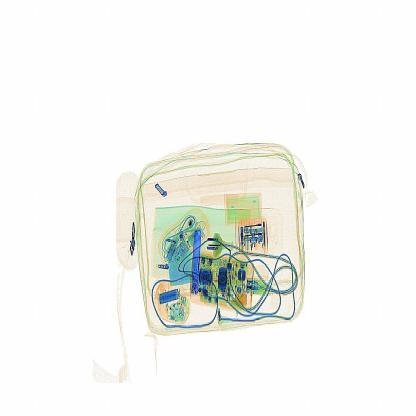pliers: (184, 225, 207, 297)
